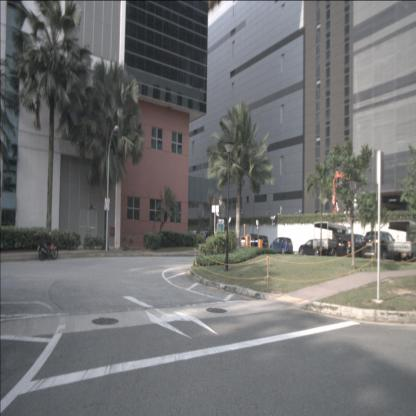vehicle-car: (362, 230, 398, 260), (336, 234, 374, 258), (298, 239, 326, 257), (270, 237, 293, 254), (248, 234, 268, 250), (233, 236, 247, 249), (200, 231, 214, 242), (188, 231, 201, 242)
vehicle-motorcycle: (34, 231, 58, 261)
vehicle-truck: (313, 221, 354, 257), (387, 219, 416, 262)
